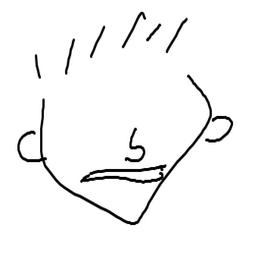ear: (7, 130, 44, 165), (207, 113, 235, 147)
nose: (73, 162, 170, 188), (116, 119, 150, 165)
